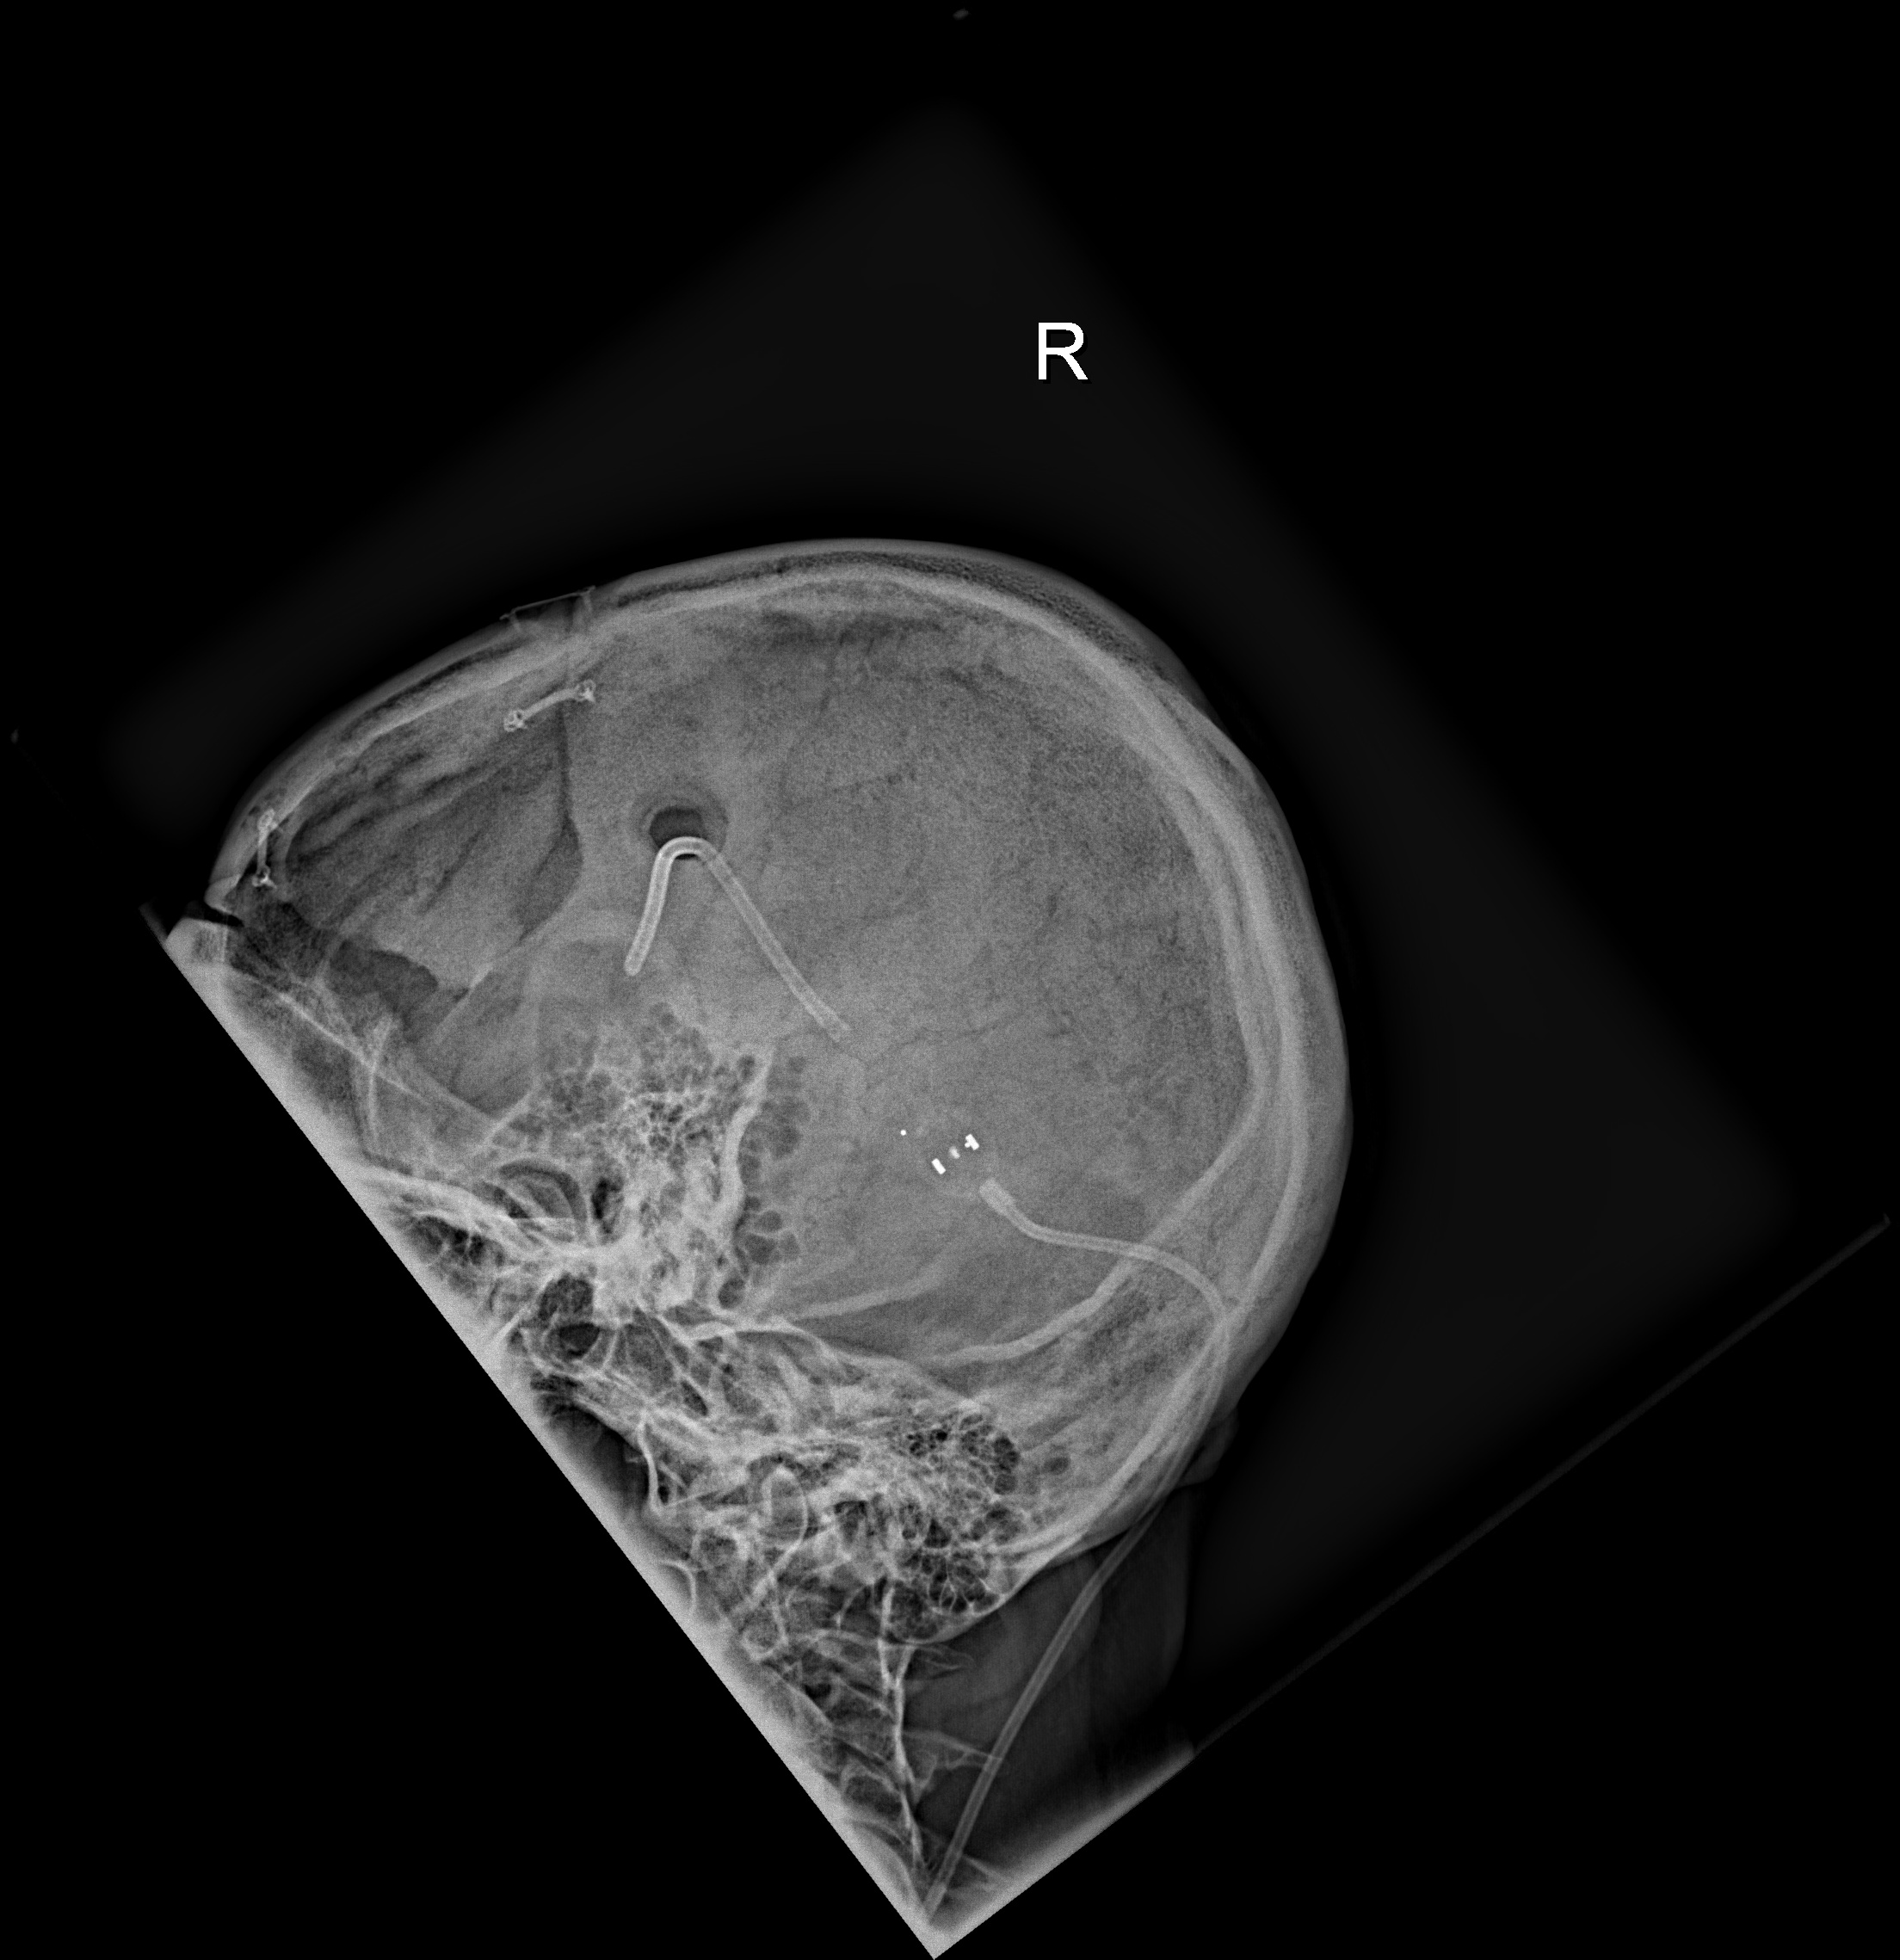Codman Certas: (892, 1101, 1008, 1211)
